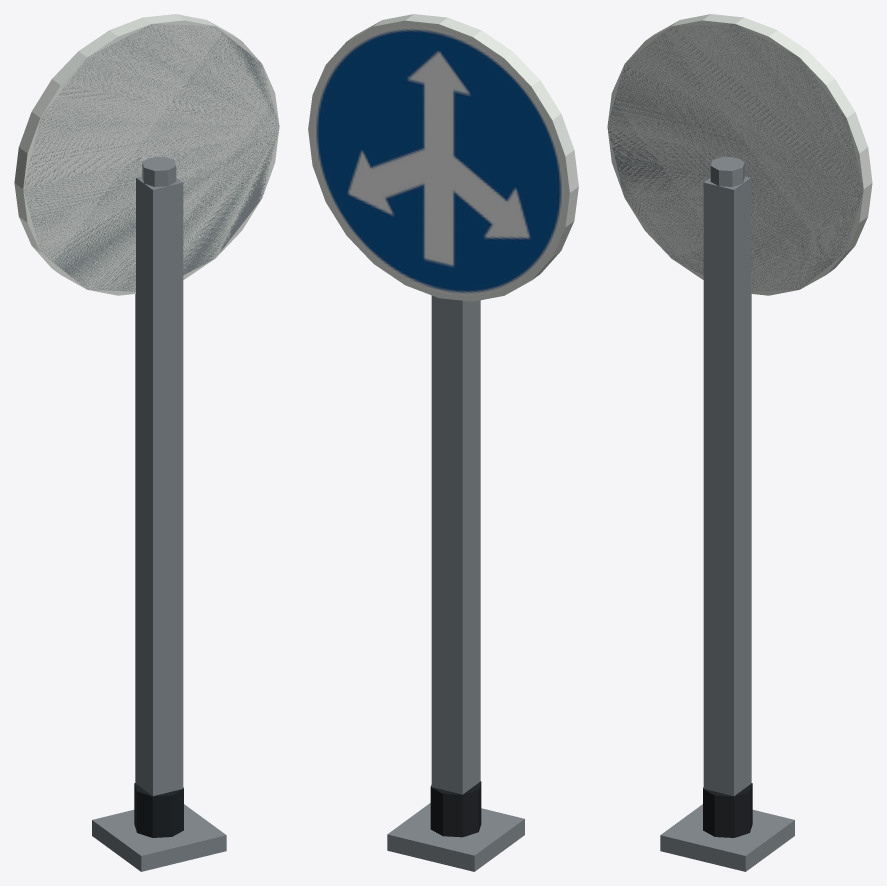
Rendered from direction-sign-hl-a-hr.glb.
The picture shows the model from 3 angles, left to right: view 1: azimuth 30°, elevation 25°; view 2: azimuth 150°, elevation 25°; view 3: azimuth 330°, elevation 25°; orthographic projection. The views are drawn at different scales.
Visible parts, largest first — view 1: direction-sign-hl-a-hr (×2); view 2: direction-sign-hl-a-hr (×2); view 3: direction-sign-hl-a-hr (×2).
Part boxes in pixels (box(x1,y1,x2,y2)): direction-sign-hl-a-hr (×2): box(14, 14, 279, 871); direction-sign-hl-a-hr (×2): box(308, 14, 578, 871); direction-sign-hl-a-hr (×2): box(607, 14, 872, 871).
Size of the model in its own units: 2.35 by 7.14 by 0.784.
4 materials, 1 textured.
